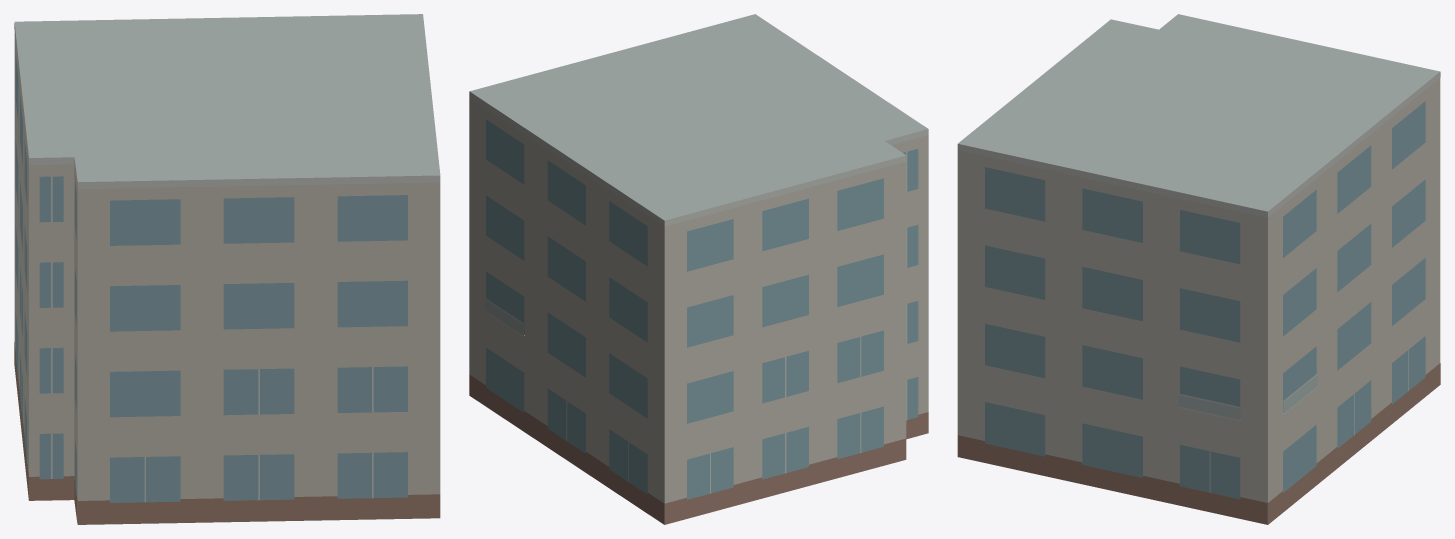
File: survey-upis-32888854.glb
3 renders of one model, left to right at view 1: azimuth 30°, elevation 25°; view 2: azimuth 150°, elevation 25°; view 3: azimuth 270°, elevation 25°, orthographic. The views are drawn at different scales.
Visible parts, largest first — view 1: survey-upis-32888854.tmp; view 2: survey-upis-32888854.tmp; view 3: survey-upis-32888854.tmp.
Part boxes in pixels (x1=…): survey-upis-32888854.tmp: x1=14, y1=14, x2=440, y2=524; survey-upis-32888854.tmp: x1=469, y1=14, x2=928, y2=524; survey-upis-32888854.tmp: x1=957, y1=14, x2=1440, y2=524.
Size of the model in its own units: 16.52 by 12.2 by 17.05.
